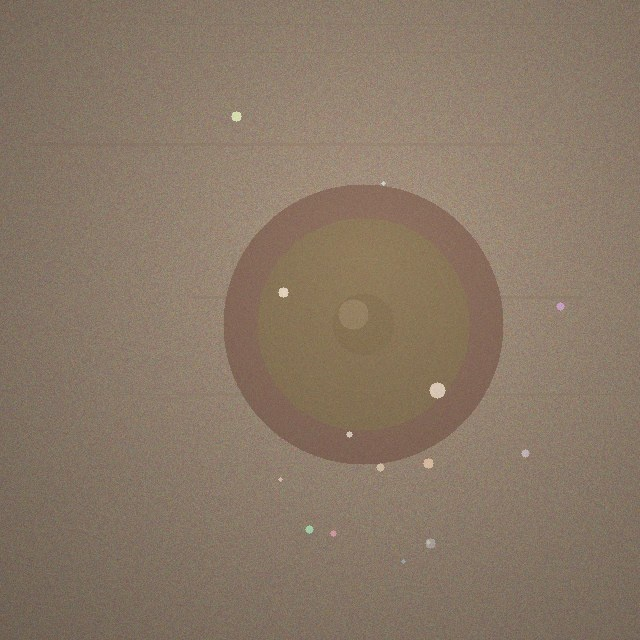overburn: (223, 184, 503, 464)
